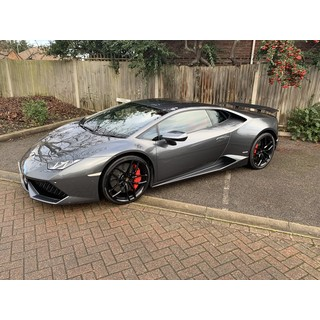car: (18, 96, 284, 209)
